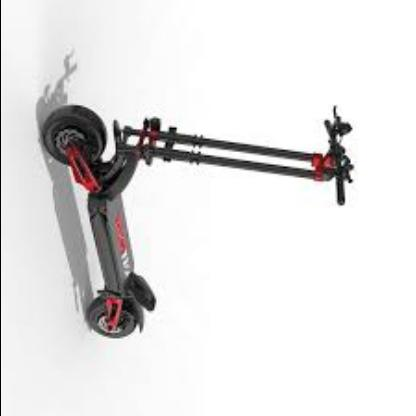bike: (40, 101, 356, 340)
traffic light: (312, 153, 335, 182)
